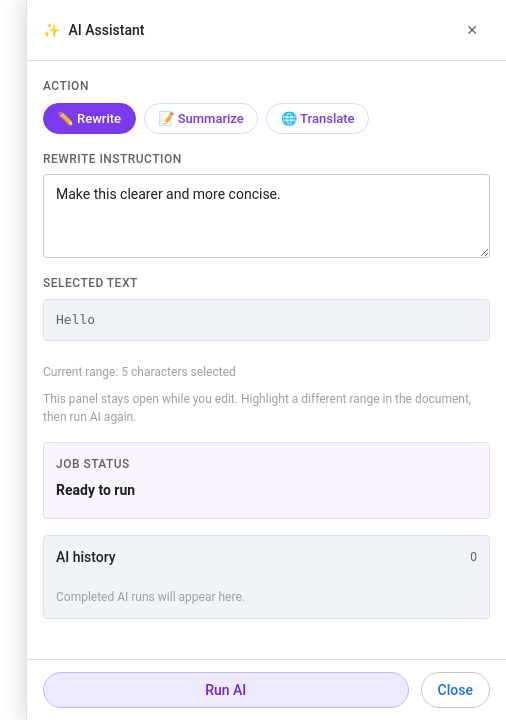
AiPanel › surfaces a stale-source error instead of closing when apply fails
Step 1. Click the button with test id "ai-run" → (226, 690), box [43,672,409,708]
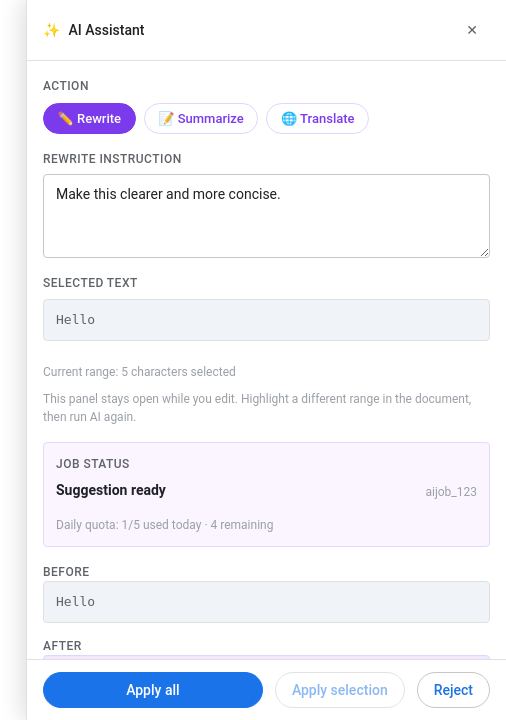
Expected: the text "Suggestion ready" is shown, [56,480,166,501]
Step 2. Click the button with test id "ai-apply-all" → (153, 690), box [43,672,263,708]
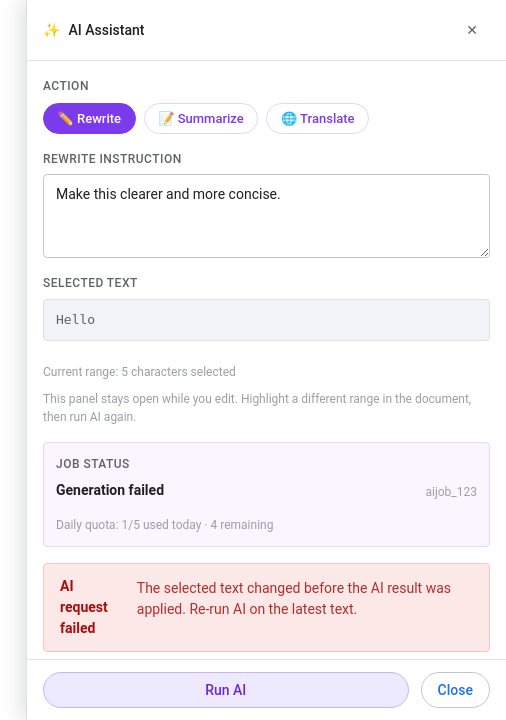
Expected: the text "selected text changed before the AI result was applied" is shown, [137,580,451,617]
